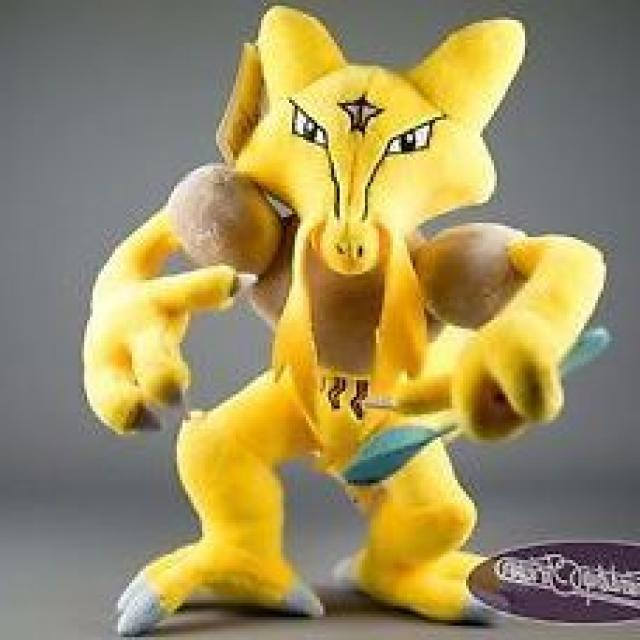Kadabra: (77, 0, 608, 640)
